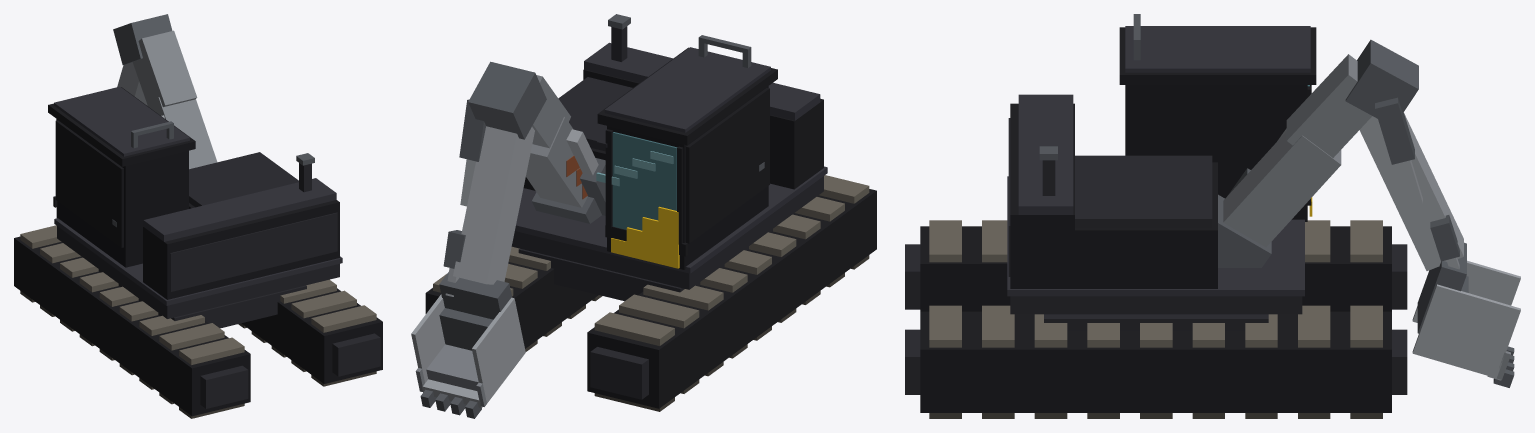
The model's file is basic_mini_excavator.obj.
The picture shows the model from 3 angles, left to right: view 1: azimuth 30°, elevation 25°; view 2: azimuth 150°, elevation 25°; view 3: azimuth 270°, elevation 25°; orthographic projection. The views are drawn at different scales.
Parts seen in each view (by area): view 1: frame_L, rear_grill, cab_shell, pillar_side, frame_R, cw_round, cab_roof_top, counterweight, deck, body_top, boom_high, deck_lip (+21 smaller); view 2: frame_L, pillar_side, arm, cab_roof_top, deck, glass_front, deck_lip, counterweight, arm_root, frame_R, cw_round, side_l_1 (+34 smaller); view 3: frame_R, cab_shell, body_main, frame_L, body_top, cab_roof_top, boom_low, side_r_1, cw_round, deck_lip, deck, arm (+28 smaller).
Boxes of the visible parts, x1,y1,x2,y2 form: frame_L: [14, 236, 250, 416]; rear_grill: [170, 212, 337, 291]; cab_shell: [56, 119, 188, 267]; pillar_side: [55, 120, 123, 247]; frame_R: [241, 288, 382, 383]; cw_round: [143, 178, 336, 241]; cab_roof_top: [54, 86, 189, 156]; counterweight: [143, 200, 339, 299]; deck: [57, 226, 339, 318]; body_top: [189, 152, 298, 207]; boom_high: [132, 30, 197, 107]; deck_lip: [54, 218, 342, 305]; frame_L: [587, 189, 876, 408]; pillar_side: [686, 88, 769, 243]; arm: [453, 126, 534, 284]; cab_roof_top: [604, 47, 770, 132]; deck: [511, 176, 823, 289]; glass_front: [612, 132, 677, 230]; deck_lip: [515, 166, 827, 273]; counterweight: [583, 69, 823, 189]; arm_root: [468, 61, 546, 139]; frame_R: [425, 262, 598, 348]; cw_round: [584, 42, 820, 120]; side_l_1: [472, 297, 525, 403]; frame_R: [920, 311, 1391, 412]; cab_shell: [1125, 85, 1307, 221]; body_main: [1010, 162, 1217, 288]; frame_L: [920, 226, 1391, 311]; body_top: [1075, 155, 1212, 227]; cab_roof_top: [1125, 26, 1310, 72]; boom_low: [1223, 131, 1341, 247]; side_r_1: [1412, 284, 1520, 378]; cw_round: [1018, 94, 1073, 214]; deck_lip: [1007, 176, 1304, 296]; deck: [1010, 296, 1302, 314]; arm: [1359, 113, 1463, 270].
Size of the model in its own units: 0.65 by 0.8072 by 1.37.
1 material, 1 textured.
